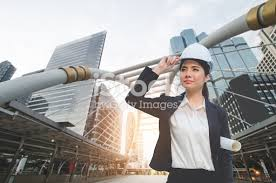Hard Hat: (179, 42, 214, 61)
